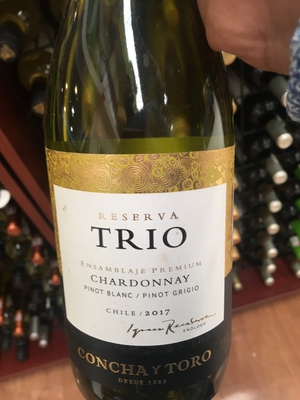trio chardonnay: (41, 8, 248, 400)
